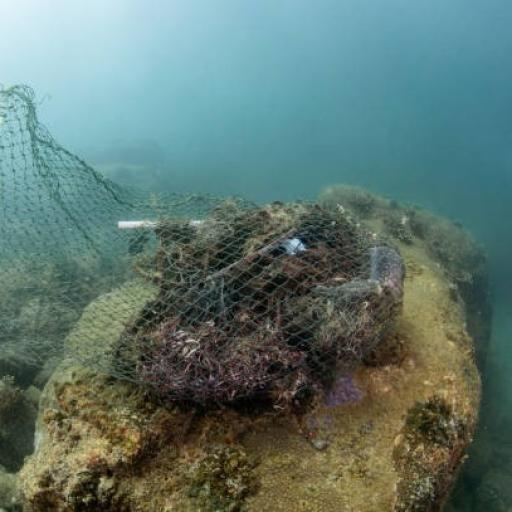net: (0, 86, 404, 404)
